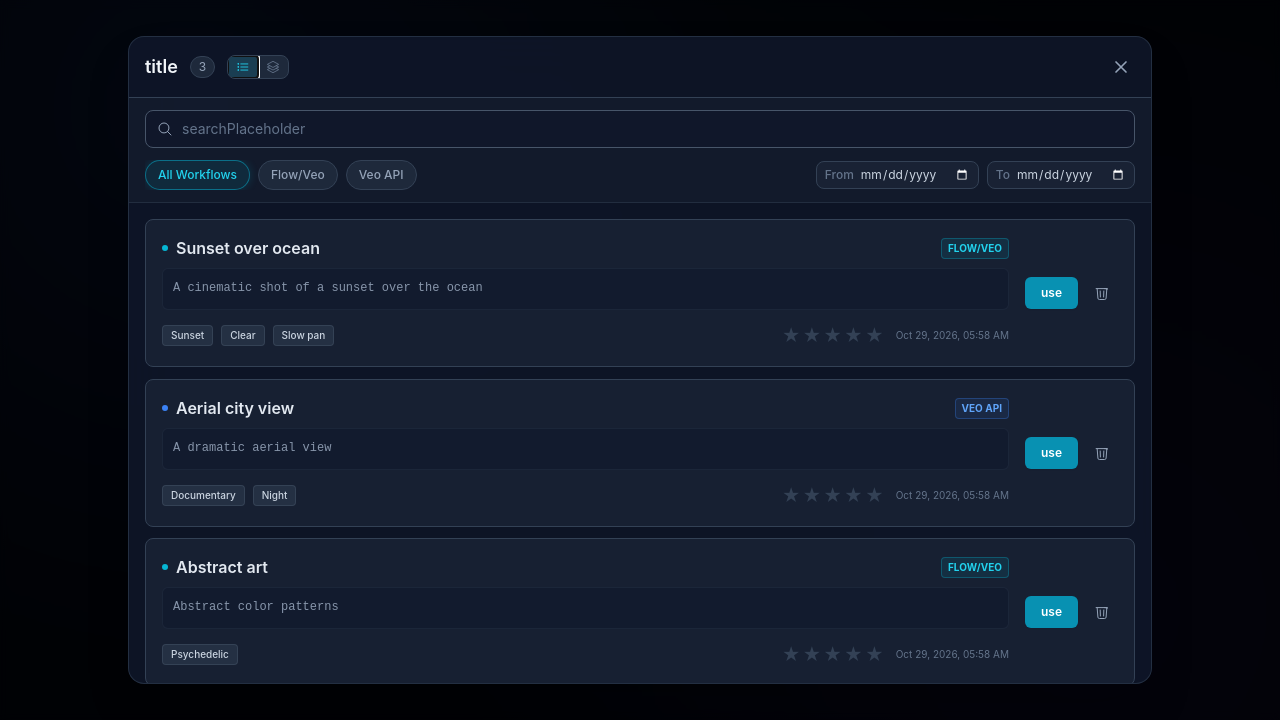
Scenario: HistoryPanel › should filter by Flow/Veo workflow
Click the button "Flow/Veo": [298, 175] box x1=258 y1=160 x2=338 y2=190
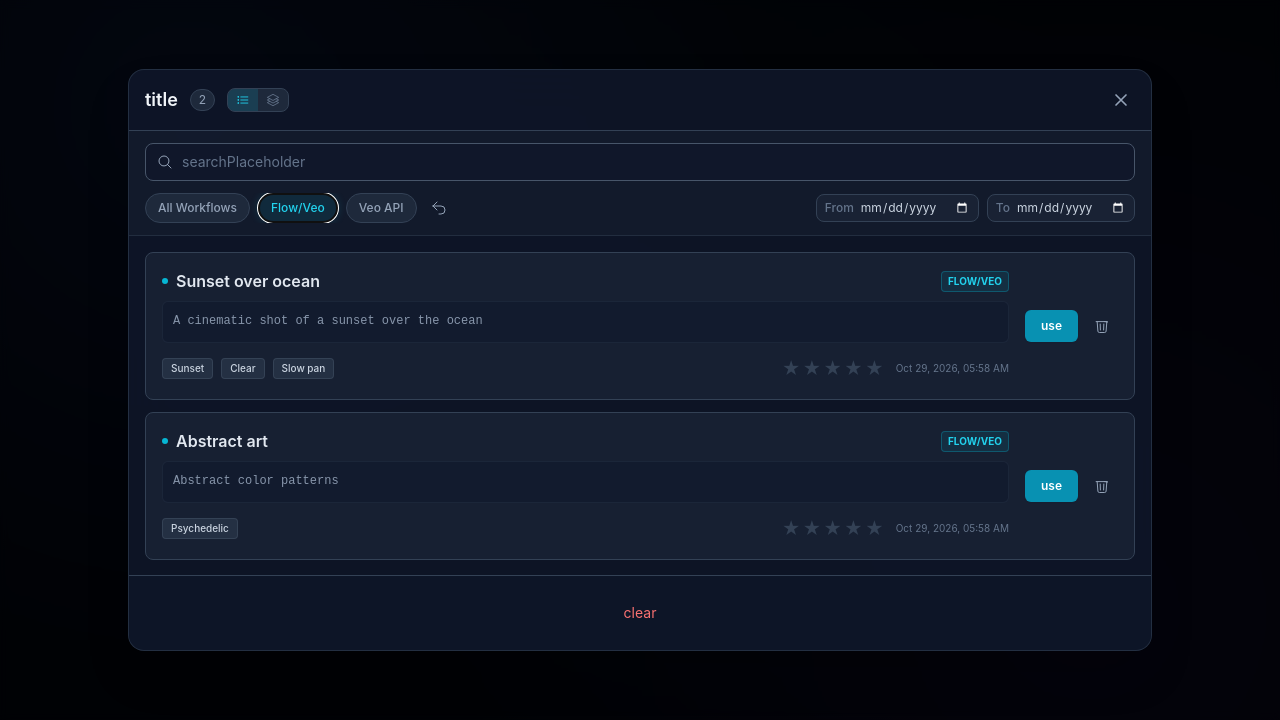
Expected: the text "Sunset over ocean" is shown, x1=176 y1=269 x2=320 y2=293
Expected: the text "Aerial city view" is gone
